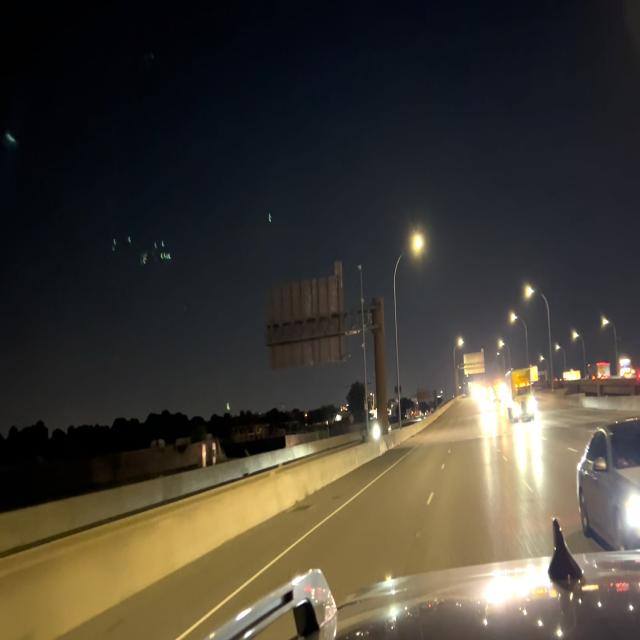back-of-sign: (267, 261, 347, 369), (463, 347, 485, 380)
